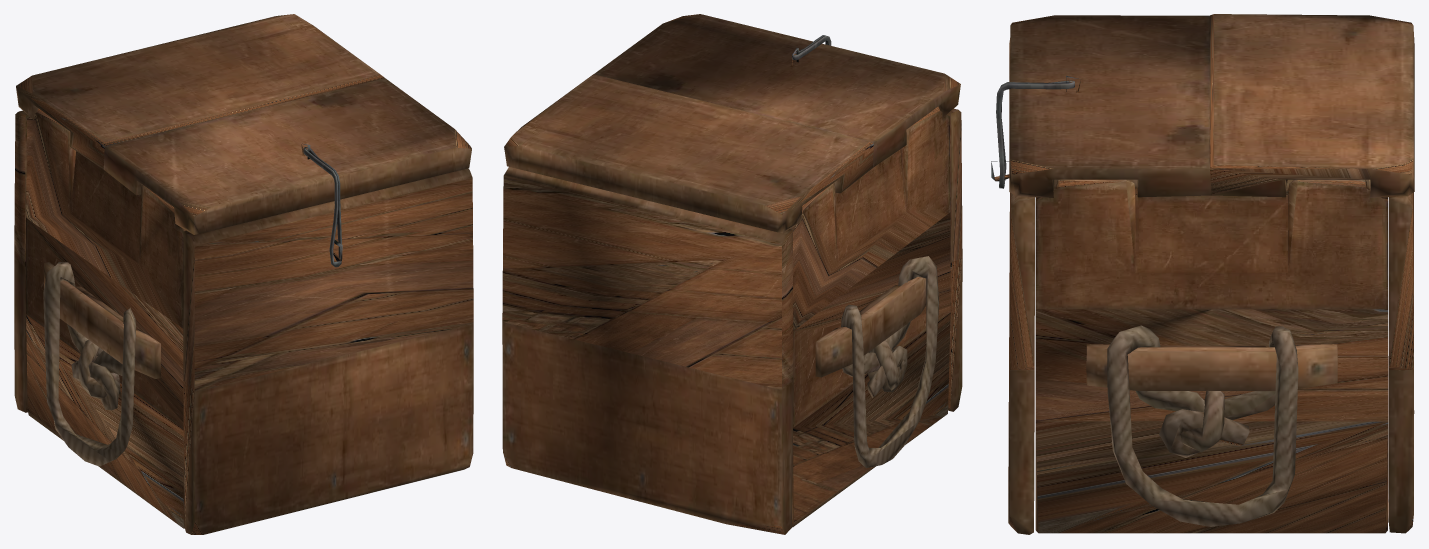
Rendered from wooden_crate_01_lod2.glb.
The picture shows the model from 3 angles, left to right: view 1: azimuth 30°, elevation 25°; view 2: azimuth 150°, elevation 25°; view 3: azimuth 270°, elevation 25°; orthographic projection. The views are drawn at different scales.
Visible parts, largest first — view 1: wooden_crate_01, wooden_crate_01_lid, wooden_crate_01_latch; view 2: wooden_crate_01, wooden_crate_01_lid; view 3: wooden_crate_01, wooden_crate_01_lid, wooden_crate_01_latch.
Part boxes in pixels (x1,y1,x2,y2): wooden_crate_01: [14, 108, 473, 534]; wooden_crate_01_lid: [16, 14, 471, 234]; wooden_crate_01_latch: [303, 147, 341, 267]; wooden_crate_01: [502, 106, 962, 534]; wooden_crate_01_lid: [504, 14, 960, 233]; wooden_crate_01: [991, 161, 1414, 534]; wooden_crate_01_lid: [1009, 14, 1414, 197]; wooden_crate_01_latch: [996, 80, 1074, 188].
Size of the model in its own units: 0.5994 by 0.5953 by 0.5957.
1 material, 1 textured.
